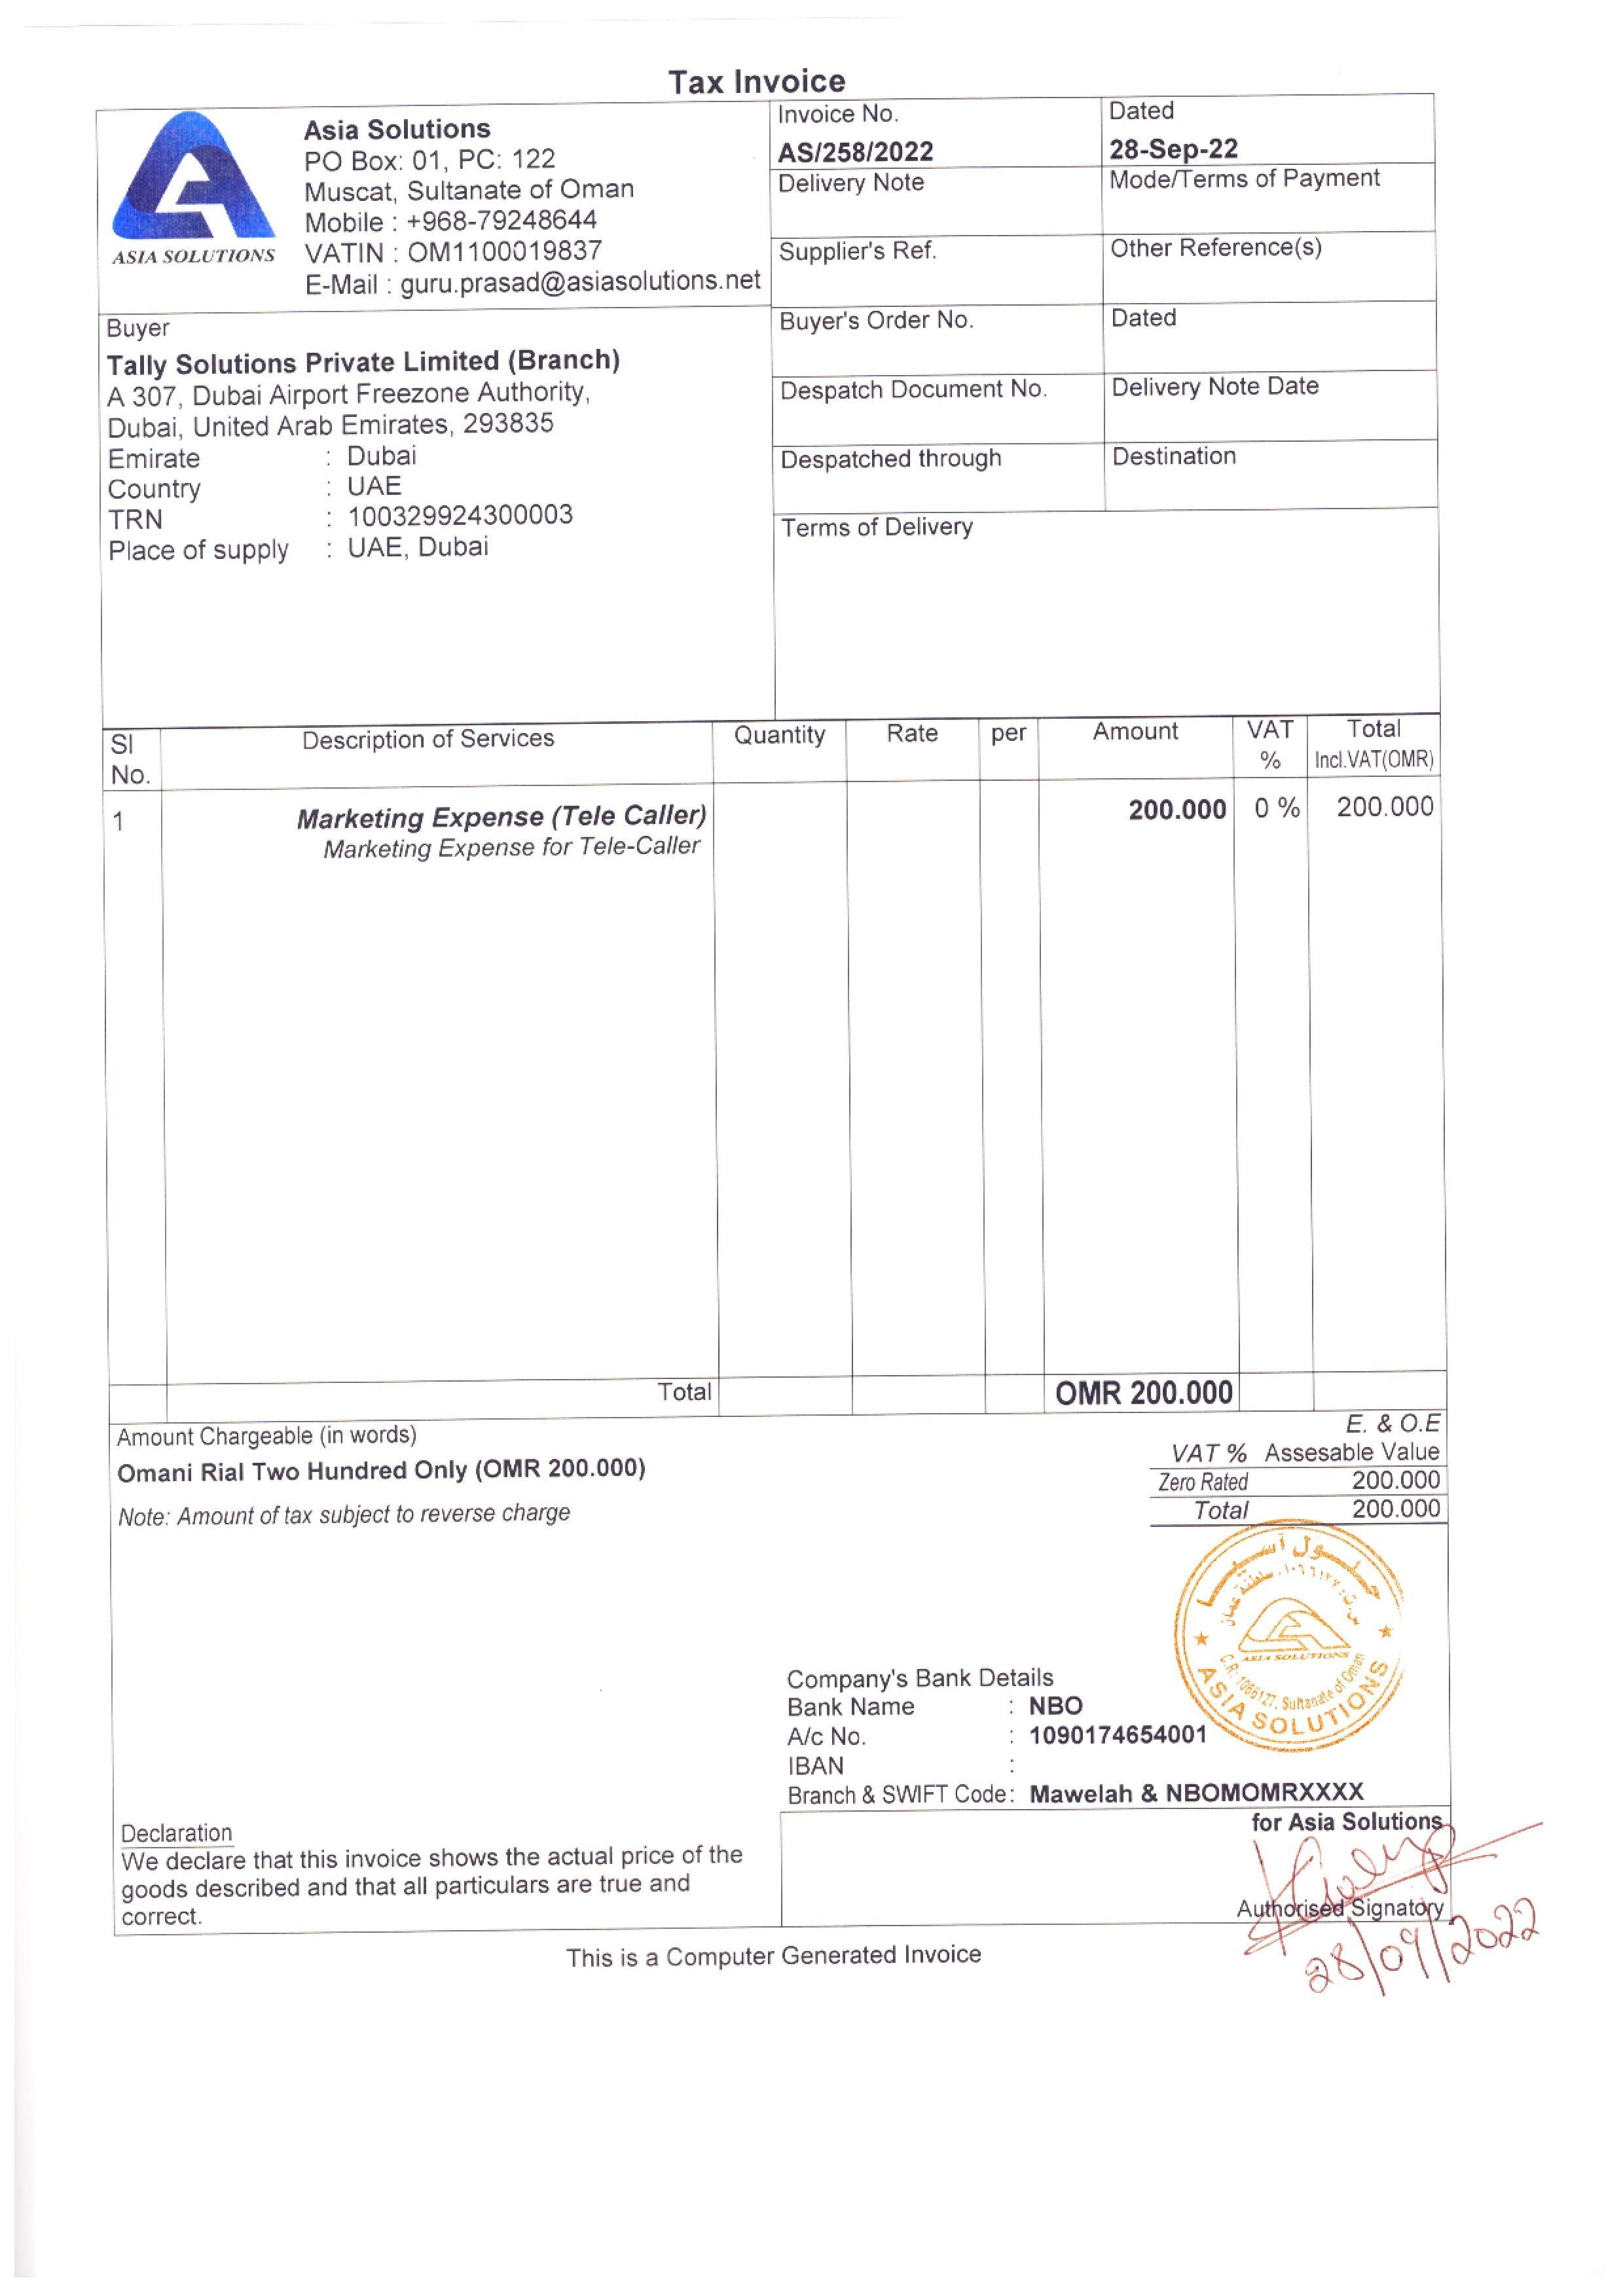InvoiceDate: (1043, 1374, 1240, 1408), (1103, 132, 1245, 165)
InvoiceNumber: (771, 132, 941, 170)
